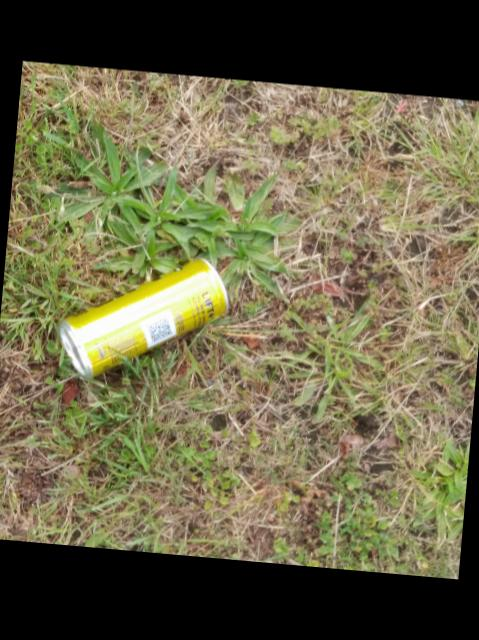metal: (58, 259, 227, 378)
